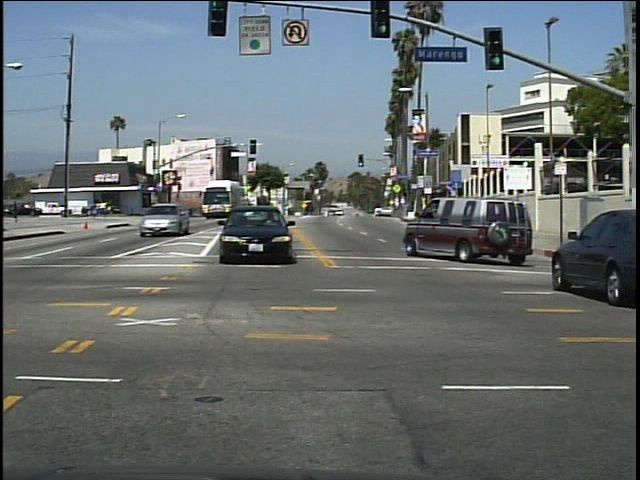person: (9, 198, 25, 226)
